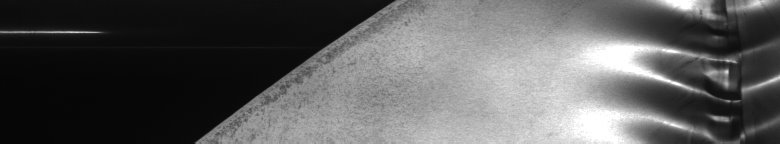ke: (635, 4, 776, 136)
